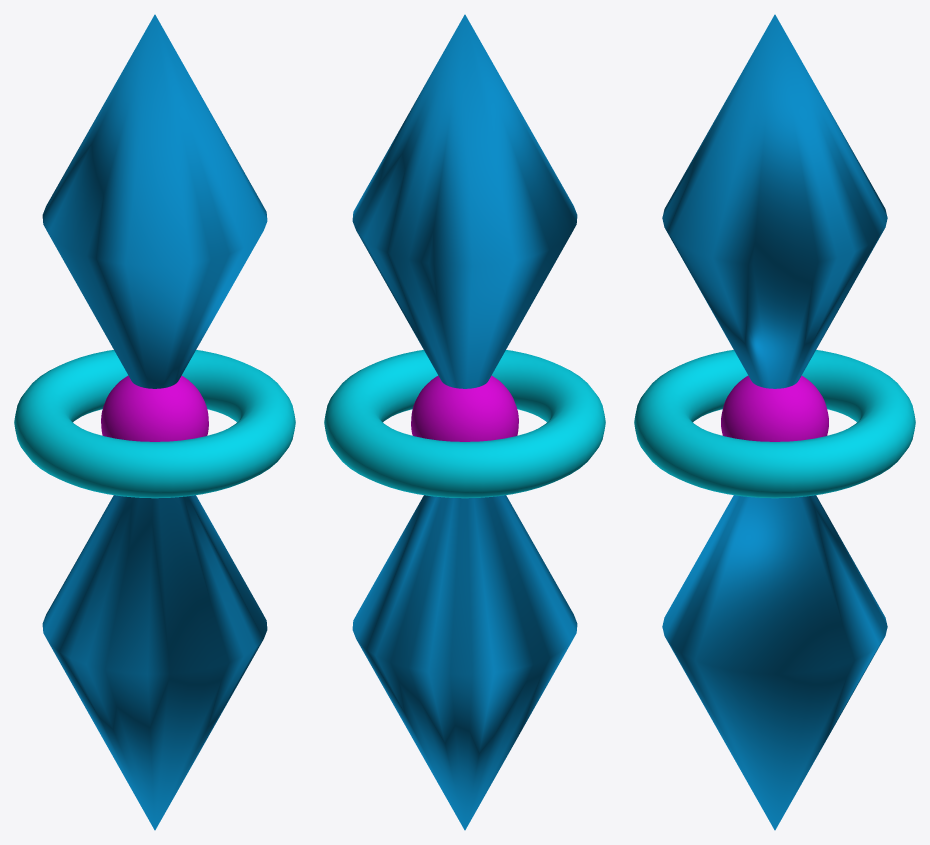
Rendered from Diamond.fbx.
3 renders of one model, left to right at view 1: azimuth 30°, elevation 25°; view 2: azimuth 150°, elevation 25°; view 3: azimuth 270°, elevation 25°, orthographic.
Visible parts, largest first — view 1: Cone.001; view 2: Cone.001; view 3: Cone.001.
Part boxes in pixels (x1=…): Cone.001: x1=14, y1=14, x2=295, y2=830; Cone.001: x1=324, y1=14, x2=605, y2=830; Cone.001: x1=634, y1=14, x2=915, y2=830.
Bounding box in the file's own units: 2.5 × 8 × 2.5.
